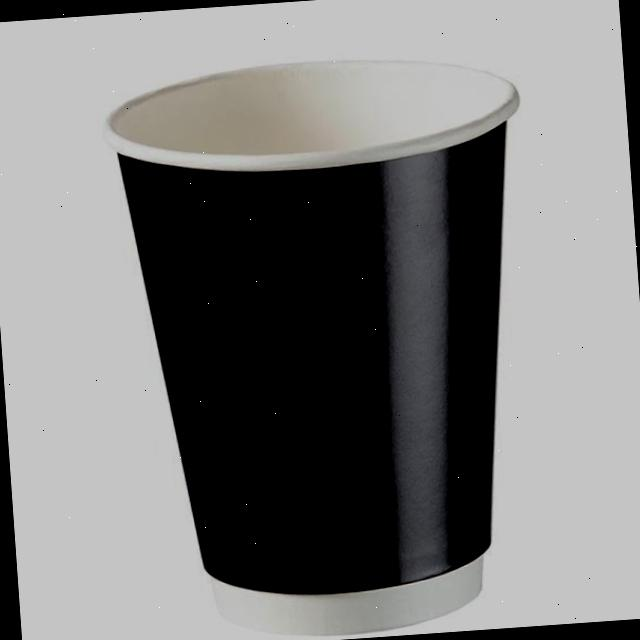trash: (103, 36, 571, 628)
